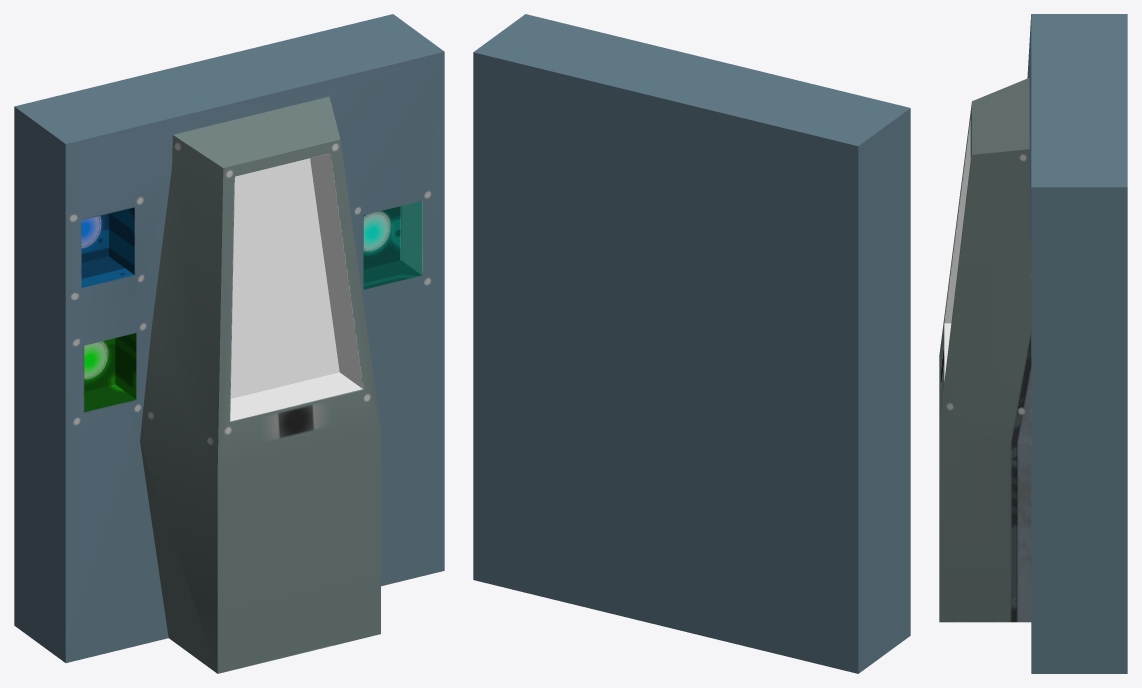
File: CryoPod.glb
The picture shows the model from 3 angles, left to right: view 1: azimuth 30°, elevation 25°; view 2: azimuth 150°, elevation 25°; view 3: azimuth 270°, elevation 25°; orthographic projection. The views are drawn at different scales.
Visible parts, largest first — view 1: CryoPodModel; view 2: CryoPodModel; view 3: CryoPodModel.
Boxes of the visible parts, x1=… form: CryoPodModel: x1=14, y1=14, x2=444, y2=673; CryoPodModel: x1=473, y1=14, x2=910, y2=673; CryoPodModel: x1=939, y1=14, x2=1127, y2=673.
Size of the model in its own units: 4.1 by 5.37 by 1.89.
Materials: 1 (1 with a texture image).
